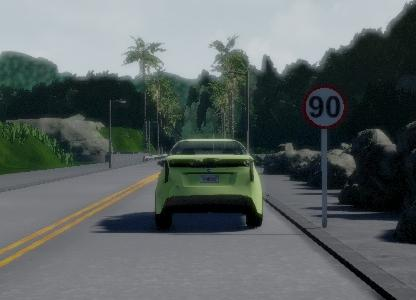Speed_90: (303, 80, 350, 131)
